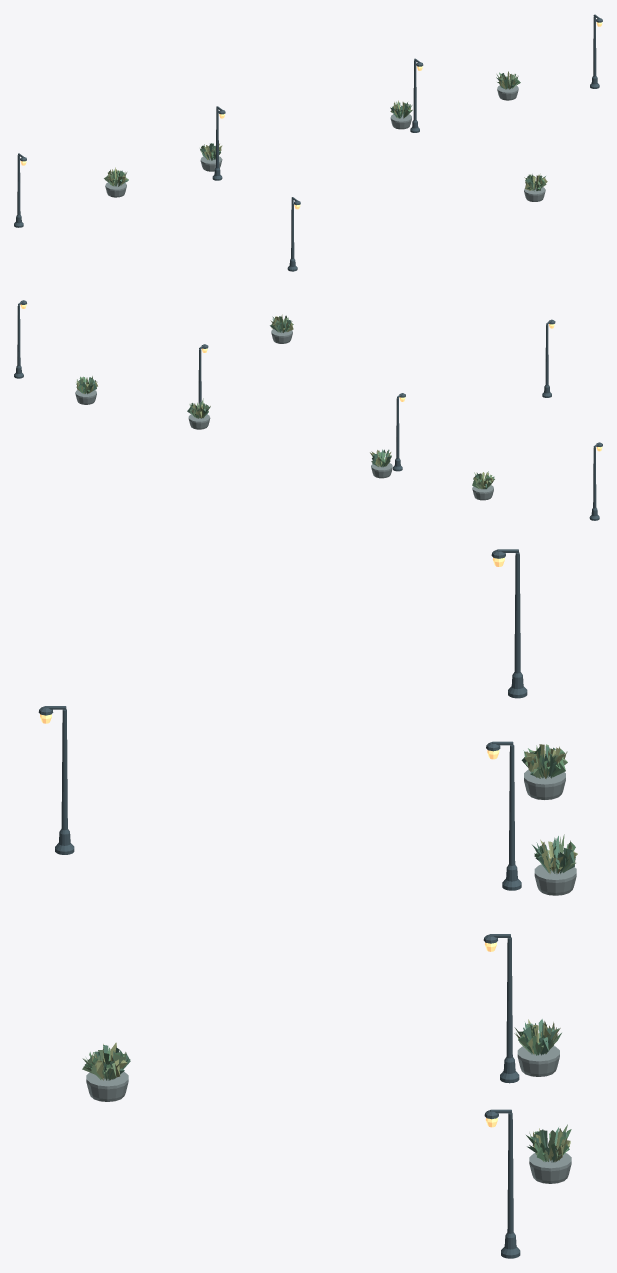
The model's file is fixtures.glb.
The picture shows the model from 3 angles, top to bottom: view 1: azimuth 30°, elevation 25°; view 2: azimuth 150°, elevation 25°; view 3: azimuth 270°, elevation 25°; orthographic projection. The views are drawn at different scales.
Parts seen in each view (by area): view 1: fixtures; view 2: fixtures; view 3: fixtures.
Boxes of the visible parts, x1,y1,x2,y2 form: fixtures: [14, 14, 602, 271]; fixtures: [14, 300, 602, 520]; fixtures: [38, 549, 577, 1258].
Bounding box in the file's own units: 28.67 × 3.4 × 11.5.
